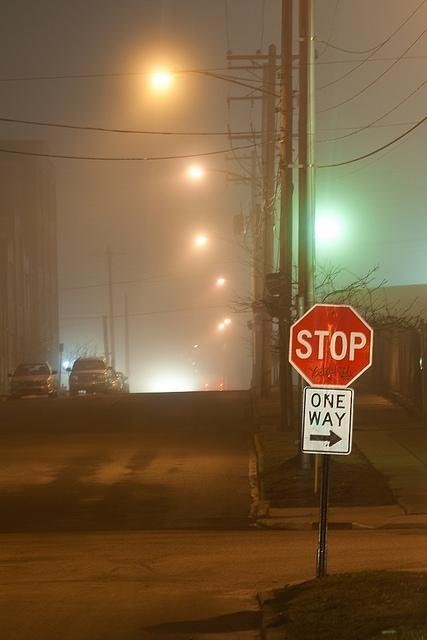car: (9, 359, 59, 398), (66, 356, 110, 397), (109, 365, 125, 393), (114, 372, 130, 393)
